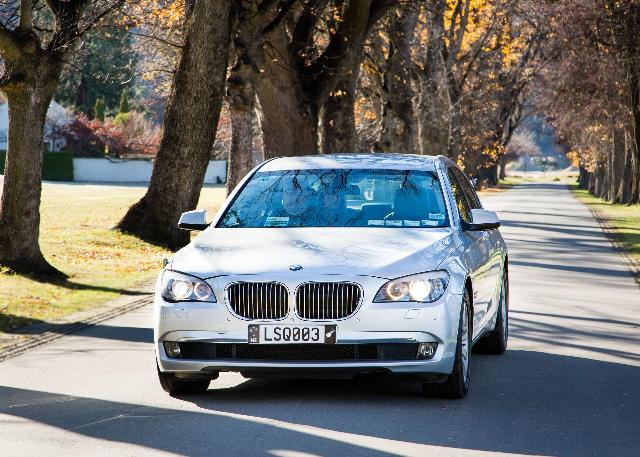Rego: (247, 323, 338, 346)
